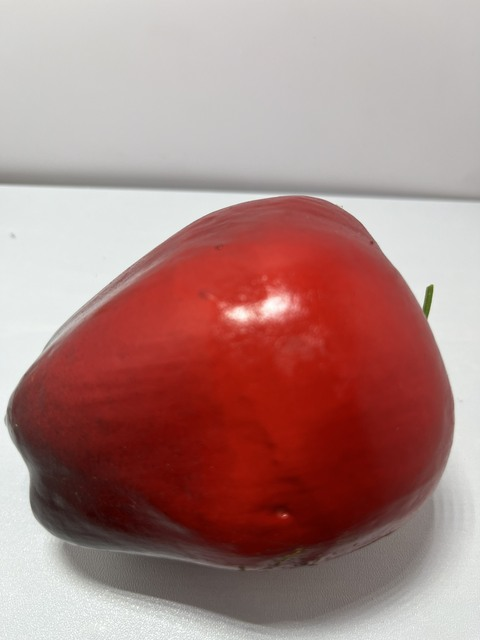Tao: (0, 184, 463, 582)
